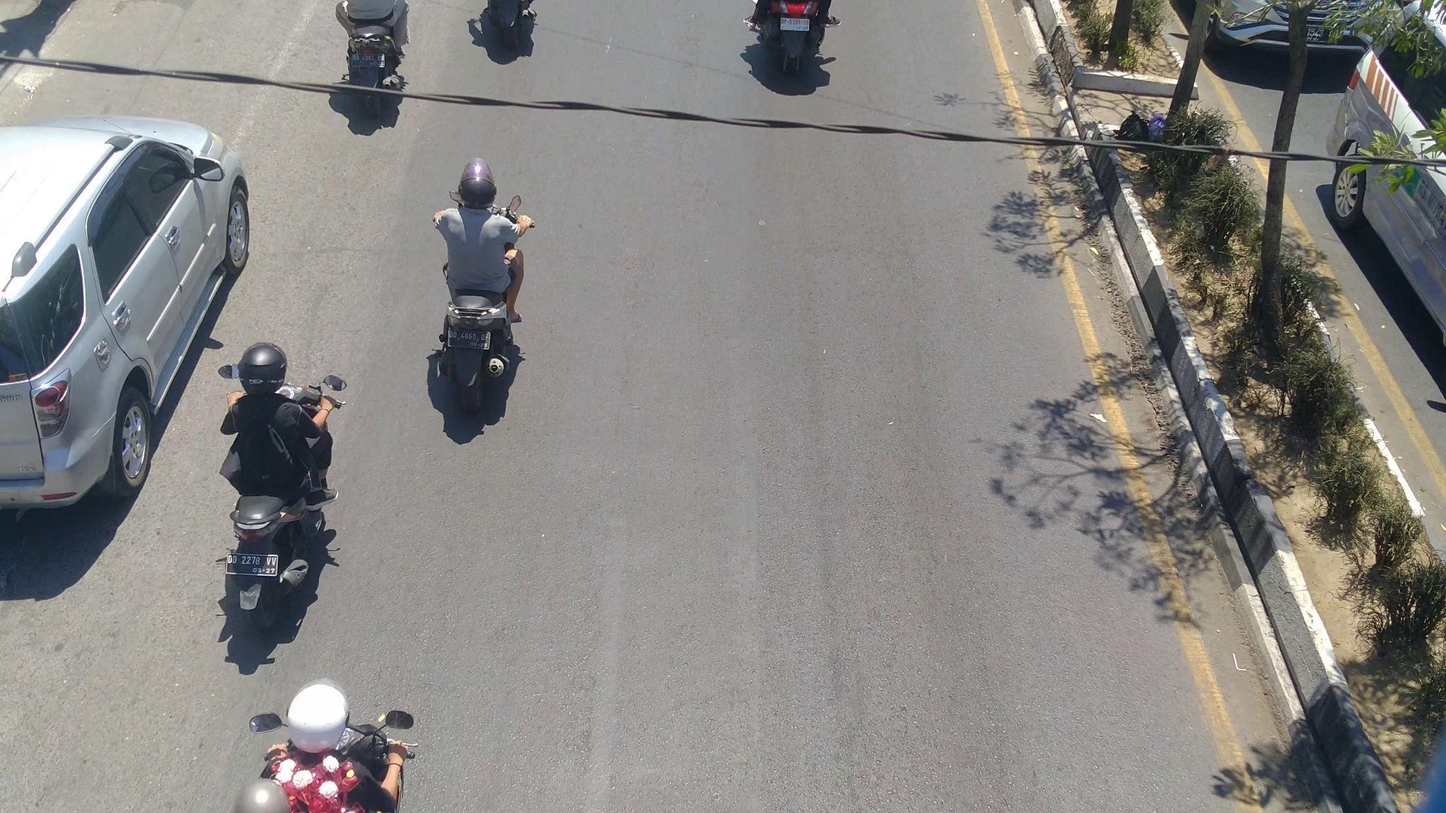Helmet: (280, 669, 353, 758), (233, 338, 293, 401), (456, 157, 498, 210)
bike: (213, 360, 352, 629), (440, 181, 534, 411), (333, 7, 414, 120)
number-plate: (227, 551, 279, 577), (443, 330, 492, 350), (349, 53, 388, 71), (779, 14, 812, 34)
rider: (224, 341, 344, 514), (436, 160, 534, 327)
